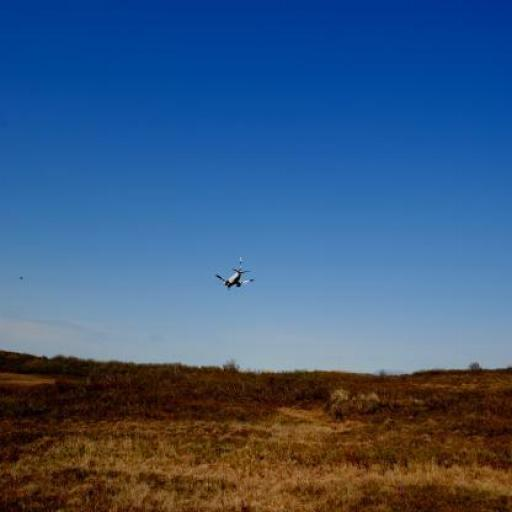aircraft: (216, 256, 254, 291)
